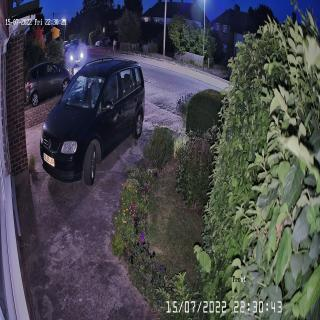car: (39, 57, 146, 187), (26, 61, 74, 107), (64, 44, 84, 67), (70, 38, 80, 48)
